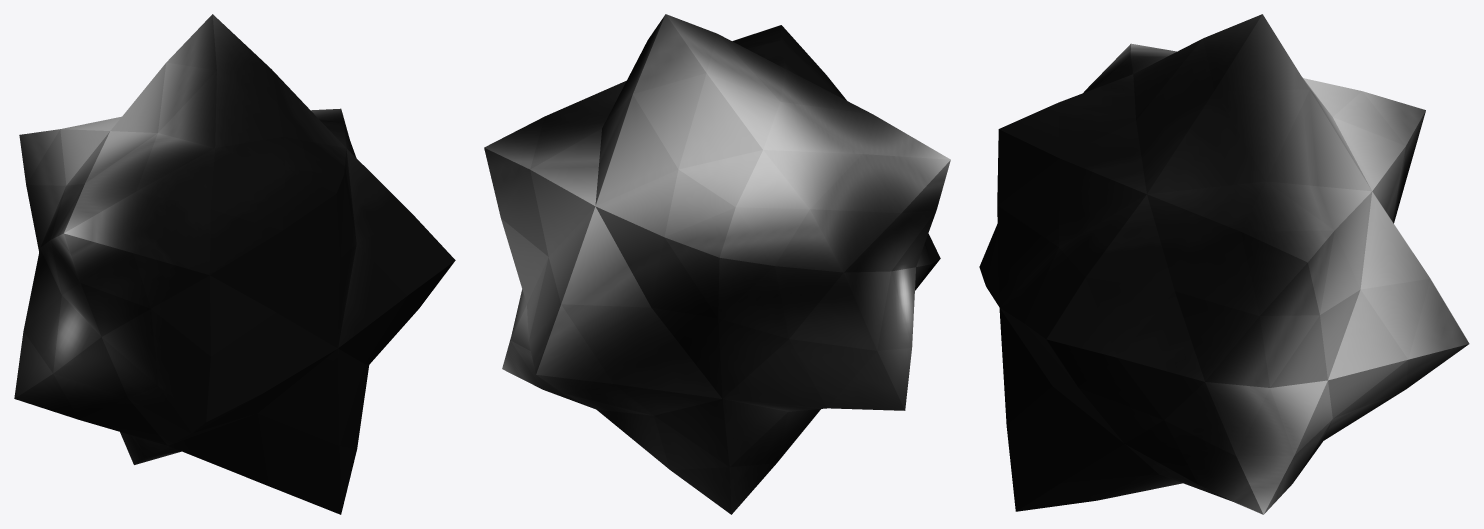
The model's file is StarPiece.dae.
The picture shows the model from 3 angles, left to right: view 1: azimuth 30°, elevation 25°; view 2: azimuth 150°, elevation 25°; view 3: azimuth 270°, elevation 25°; orthographic projection. The views are drawn at different scales.
Parts seen in each view (by area): view 1: m0; view 2: m0; view 3: m0.
Part boxes in pixels (x1,y1,x2,y2): m0: [14, 14, 455, 514]; m0: [484, 14, 950, 514]; m0: [979, 14, 1469, 514].
Bounding box in the file's own units: 70.53 × 82.2 × 72.68.
1 material, 1 textured.
